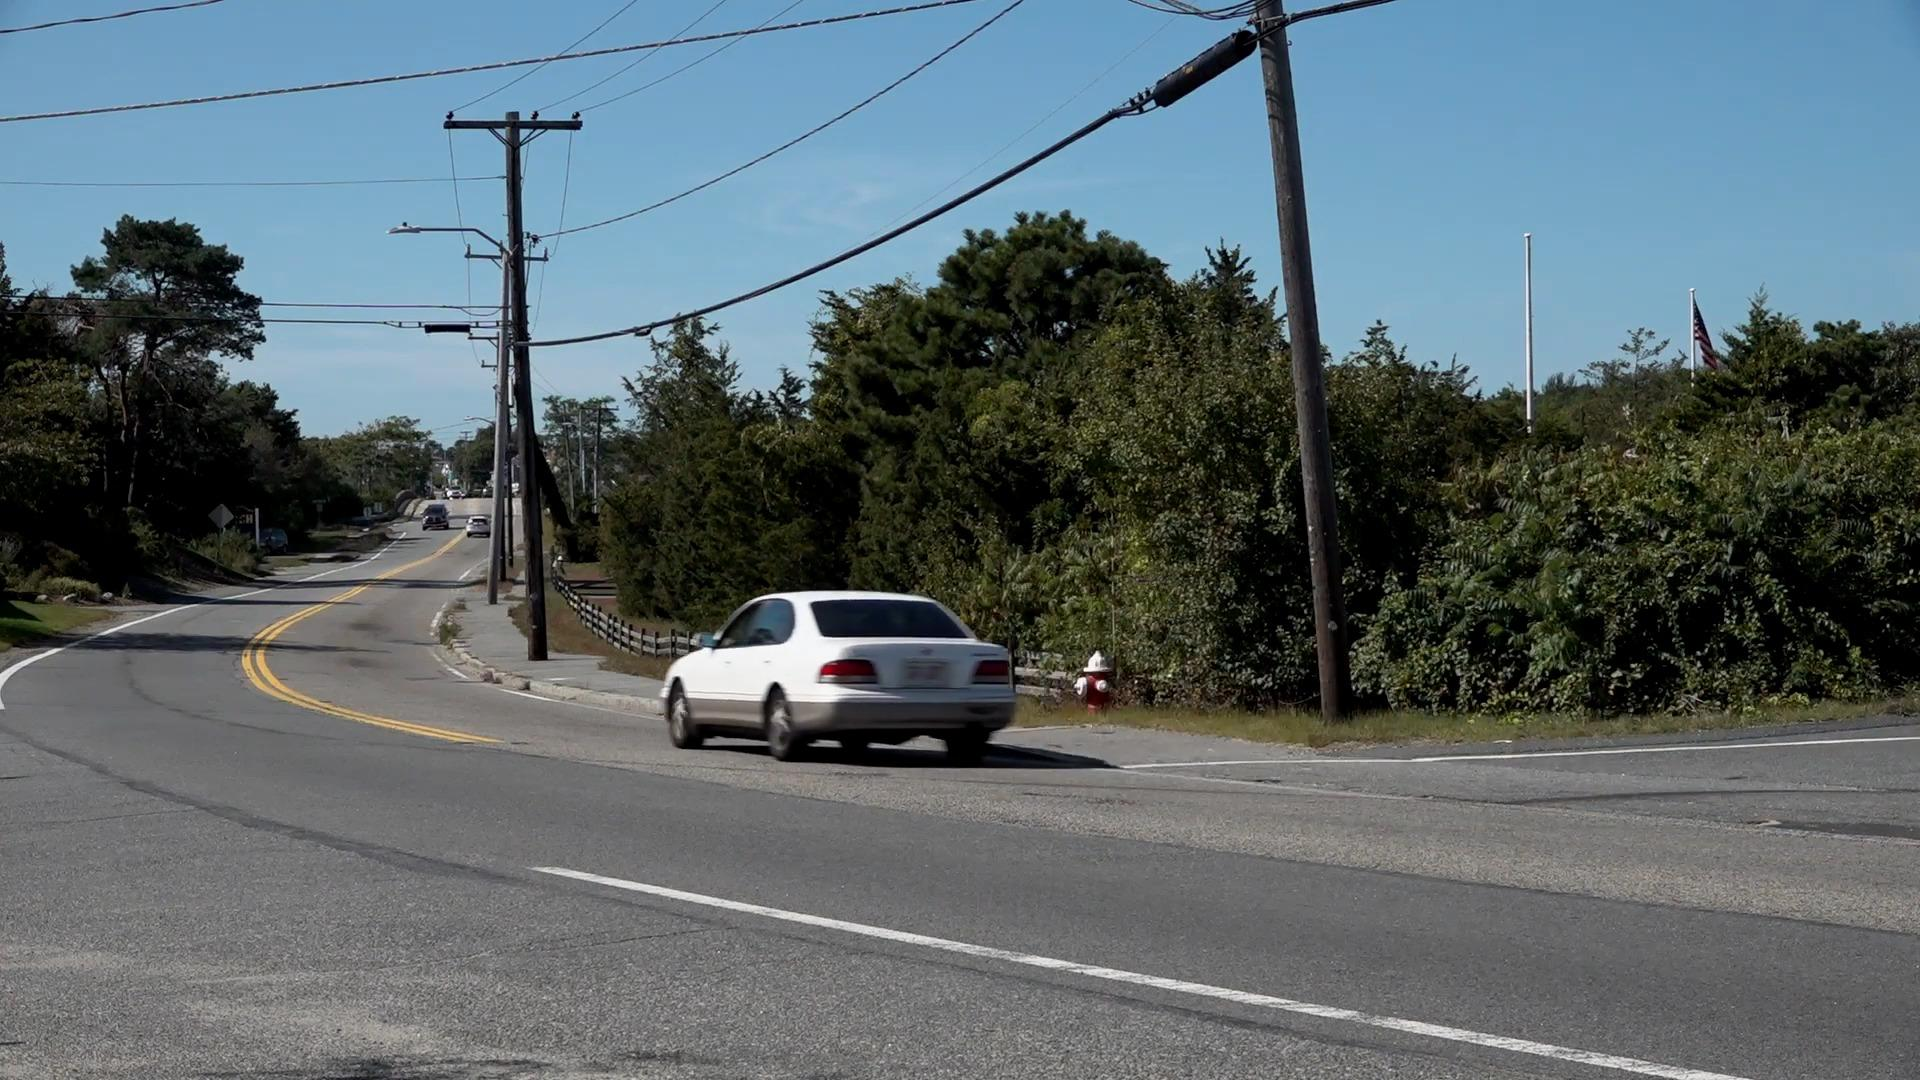sedans: (659, 589, 1011, 761)
